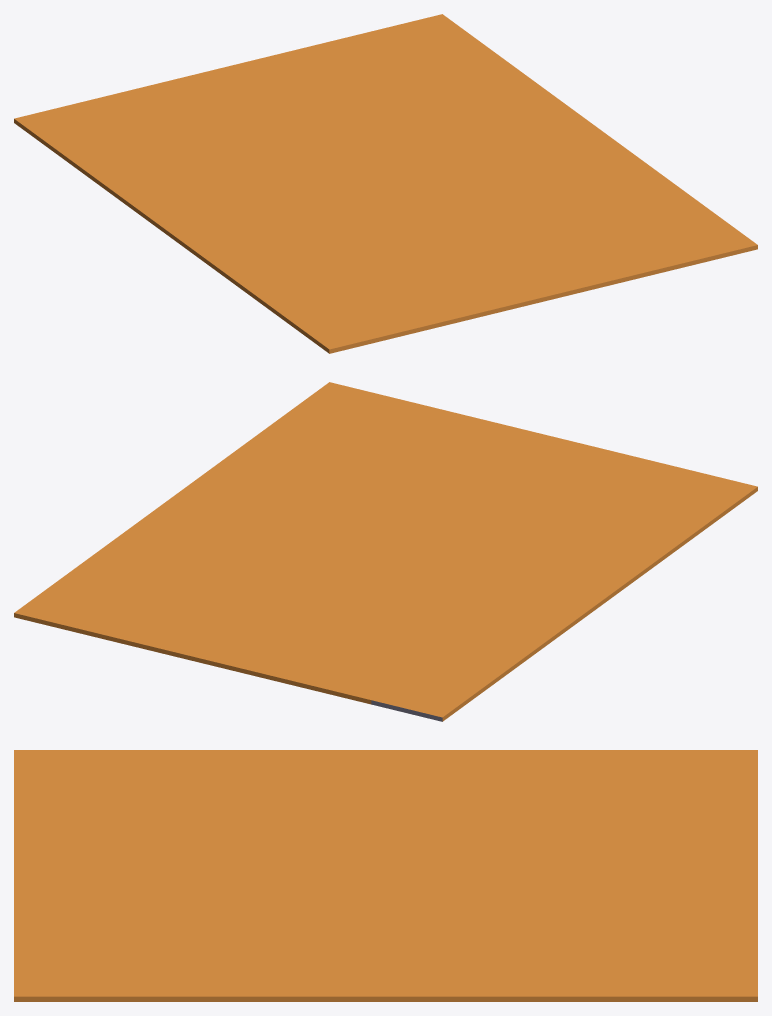
The model's file is downr_floor_of_the_bus.fbx.
The picture shows the model from 3 angles, top to bottom: view 1: azimuth 30°, elevation 25°; view 2: azimuth 150°, elevation 25°; view 3: azimuth 270°, elevation 25°; orthographic projection. The views are drawn at different scales.
Visible parts, largest first — view 1: Cube.059; view 2: Cube.059; view 3: Cube.059.
Part boxes in pixels (left/top/right/bottom): Cube.059: left=14, top=14, right=757, bottom=353; Cube.059: left=14, top=382, right=757, bottom=721; Cube.059: left=14, top=750, right=757, bottom=1001.
Bounding box in the file's own units: 180 × 1.75 × 229.
